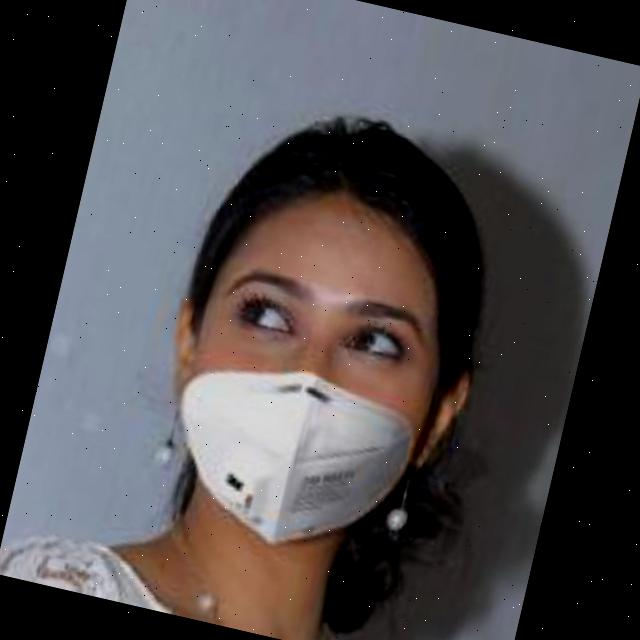suspicion: (119, 132, 546, 598)
